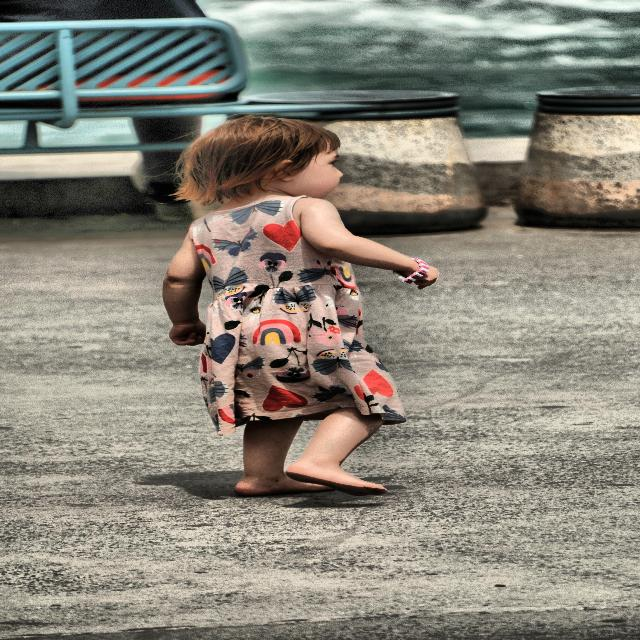Human: (167, 119, 444, 534)
